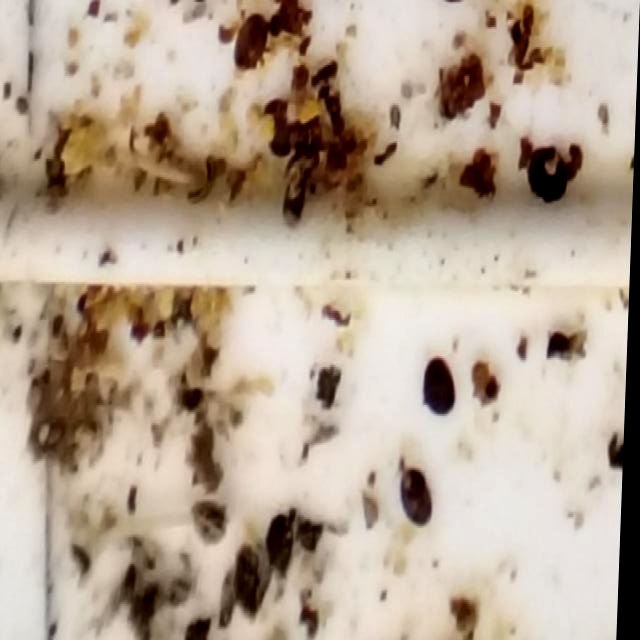varroa: (394, 468, 437, 535), (421, 354, 462, 422), (234, 547, 270, 621), (267, 514, 300, 584)
